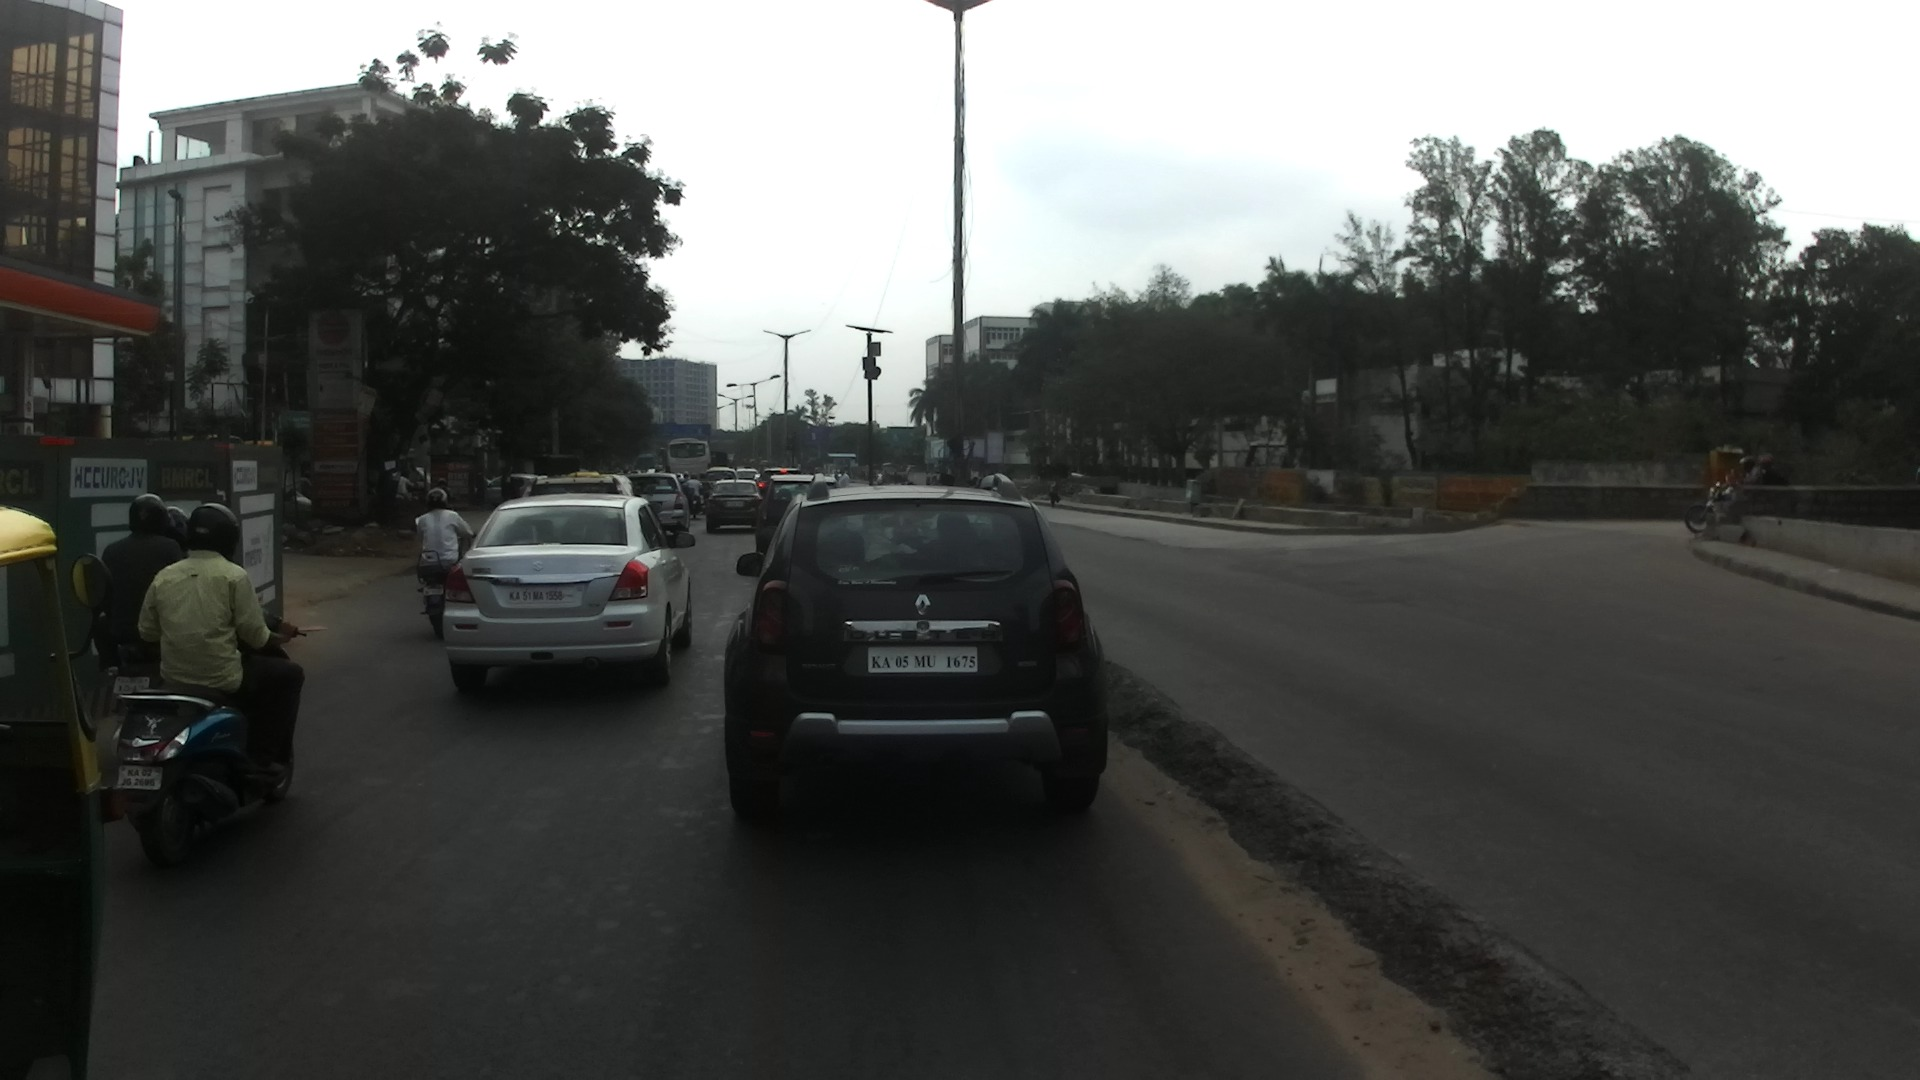autorickshaw: (1, 506, 110, 1080)
bus: (666, 439, 712, 476)
car: (721, 474, 1110, 820), (442, 493, 695, 694), (754, 475, 837, 564), (522, 469, 633, 510), (622, 473, 691, 536), (704, 479, 770, 533), (481, 472, 547, 504), (761, 468, 803, 494), (702, 466, 739, 493), (735, 468, 760, 487)
motorcycle: (107, 606, 327, 868), (97, 583, 185, 737), (416, 526, 488, 641), (1683, 472, 1771, 534), (396, 493, 424, 527), (685, 489, 705, 522), (881, 474, 892, 484)
person: (837, 468, 852, 490), (1048, 481, 1060, 508)
rider: (135, 502, 306, 782), (98, 495, 187, 660), (414, 489, 477, 578), (157, 505, 197, 572), (393, 468, 419, 531), (1730, 455, 1758, 510), (1757, 456, 1785, 492), (683, 472, 705, 514), (434, 478, 454, 520), (679, 472, 691, 487), (675, 473, 683, 483), (882, 470, 887, 480)
truck: (533, 453, 582, 480), (635, 454, 657, 478), (711, 450, 727, 473), (725, 452, 735, 467)
vehicle fallback: (757, 461, 768, 468)
